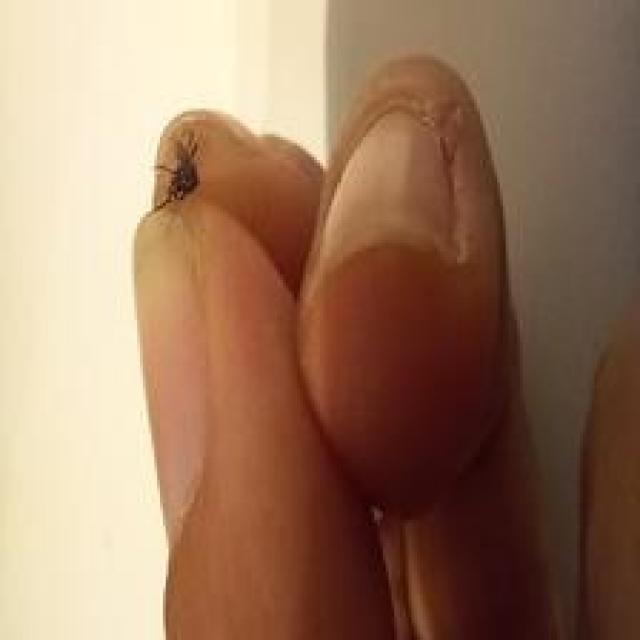Aedes albopictus: (150, 128, 201, 212)
